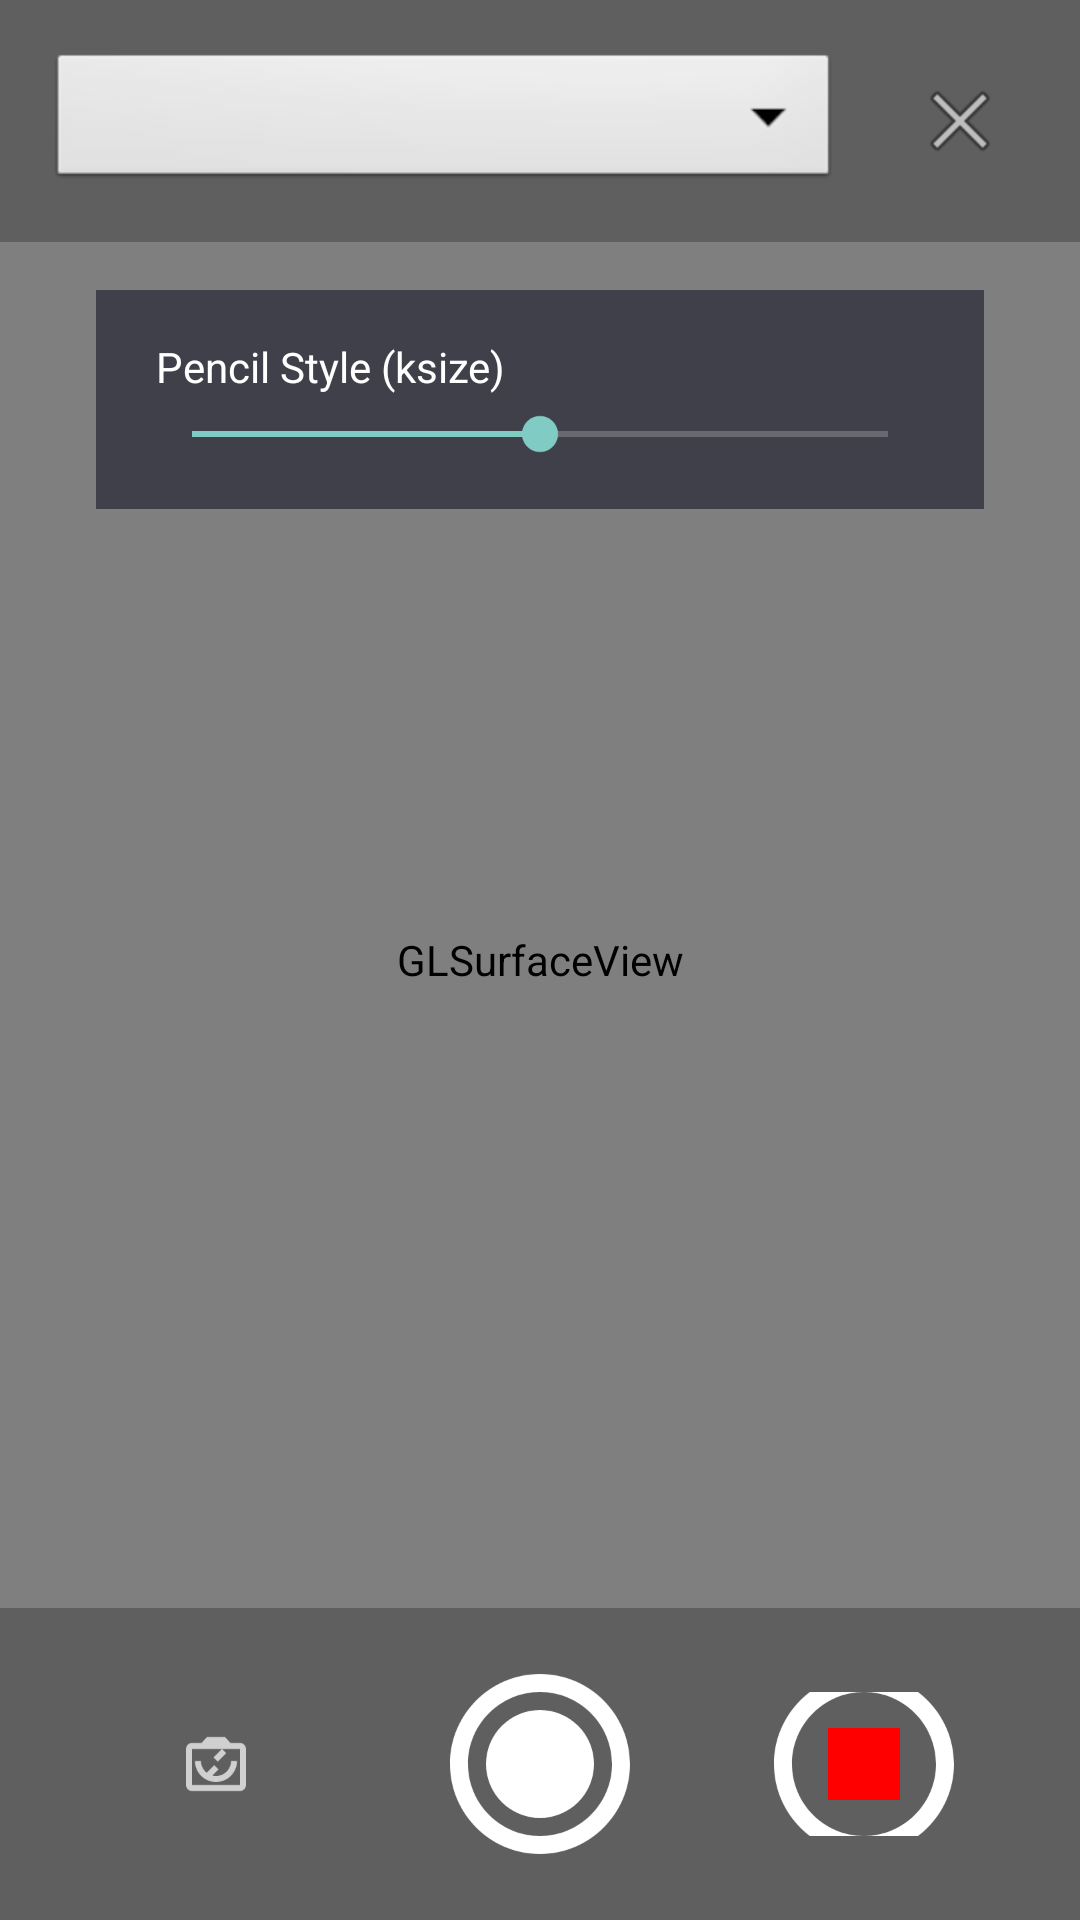

Icons on this 1080w x 1920h Android screen, each with its box as Rect(x1, y1, x2, y2):
Capture: Rect(450, 1674, 630, 1854)
Close: Rect(931, 92, 989, 150)
Flip Camera: Rect(186, 1737, 246, 1791)
Record Video: Rect(774, 1692, 954, 1836)
